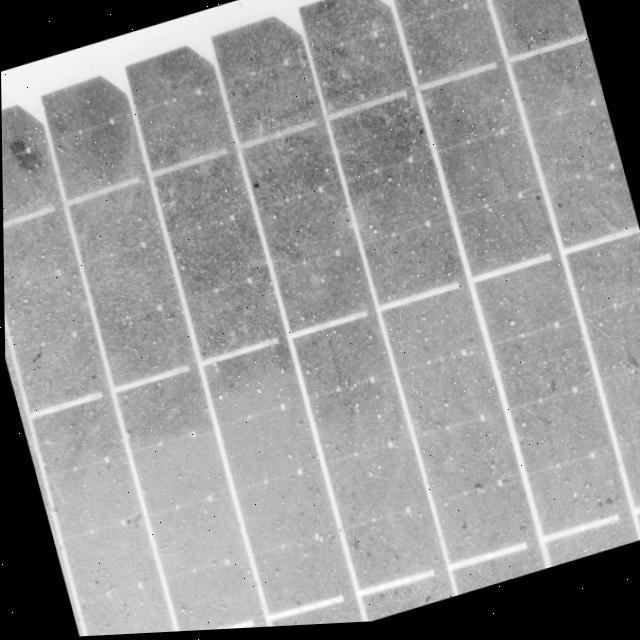Surface Contaminant: (1, 0, 640, 637)
